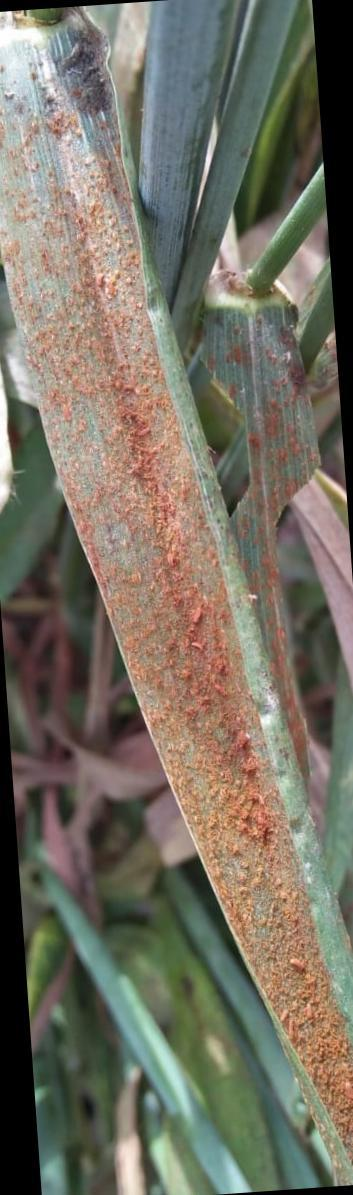Corn: (3, 134, 353, 1102)
